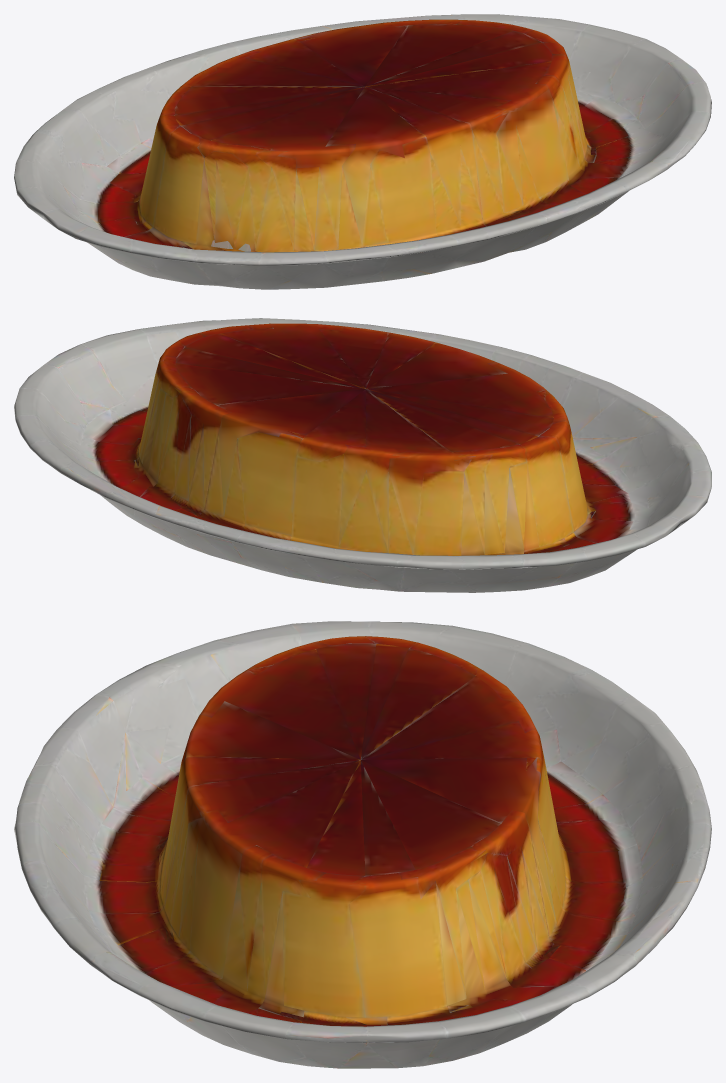
Rendered from leche-flan.glb.
3 renders of one model, top to bottom at view 1: azimuth 30°, elevation 25°; view 2: azimuth 150°, elevation 25°; view 3: azimuth 270°, elevation 25°, orthographic. The views are drawn at different scales.
Visible parts, largest first — view 1: geometry_0; view 2: geometry_0; view 3: geometry_0.
Boxes of the visible parts, left/top/right/bottom form: geometry_0: left=14, top=14, right=711, bottom=289; geometry_0: left=14, top=318, right=711, bottom=592; geometry_0: left=14, top=621, right=711, bottom=1068.
Bounding box in the file's own units: 1 × 0.1681 × 0.7154.
Materials: 1 (1 with a texture image).
